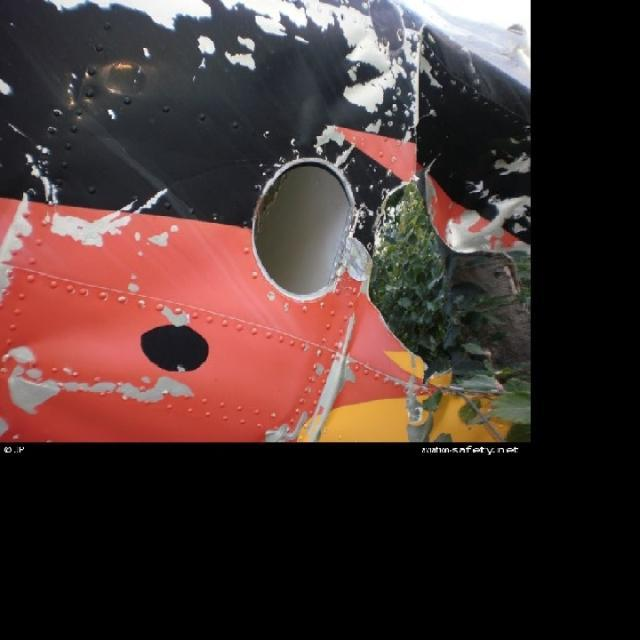dent: (253, 60, 370, 145), (7, 320, 147, 364)
